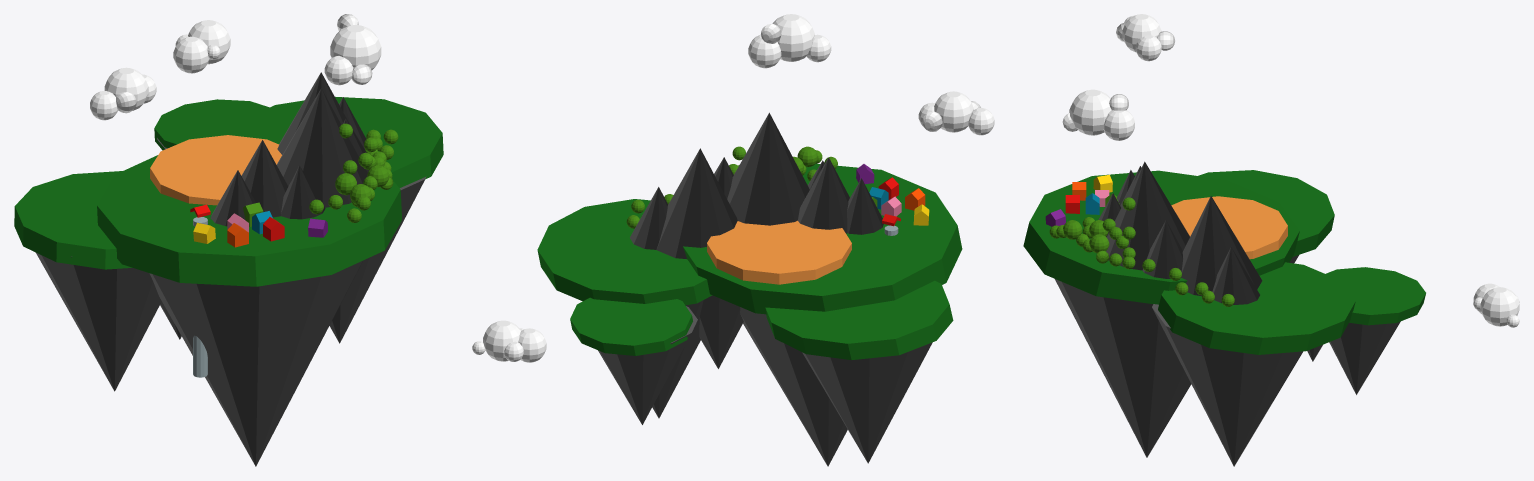
The model's file is Floaty_Island.3f99fd87.glb.
The picture shows the model from 3 angles, left to right: view 1: azimuth 30°, elevation 25°; view 2: azimuth 150°, elevation 25°; view 3: azimuth 270°, elevation 25°; orthographic projection. The views are drawn at different scales.
Parts seen in each view (by area): view 1: Node-Mesh, Node-Mesh_1, Node-Mesh_4, Node-Mesh_3, Node-Mesh_2, Node-Mesh_11, Node-Mesh_7; view 2: Node-Mesh_1, Node-Mesh, Node-Mesh_4, Node-Mesh_3, Node-Mesh_2; view 3: Node-Mesh, Node-Mesh_1, Node-Mesh_4, Node-Mesh_3, Node-Mesh_2.
Boxes of the visible parts, x1=… form: Node-Mesh: x1=35, y1=72, x2=426, y2=466; Node-Mesh_1: x1=14, y1=96, x2=443, y2=286; Node-Mesh_4: x1=90, y1=14, x2=381, y2=120; Node-Mesh_3: x1=150, y1=135, x2=281, y2=205; Node-Mesh_2: x1=243, y1=123, x2=398, y2=226; Node-Mesh_11: x1=193, y1=217, x2=207, y2=377; Node-Mesh_7: x1=190, y1=204, x2=284, y2=241; Node-Mesh_1: x1=537, y1=163, x2=962, y2=360; Node-Mesh: x1=598, y1=112, x2=932, y2=466; Node-Mesh_4: x1=472, y1=14, x2=994, y2=362; Node-Mesh_3: x1=707, y1=220, x2=851, y2=284; Node-Mesh_2: x1=626, y1=146, x2=877, y2=228; Node-Mesh: x1=1055, y1=161, x2=1400, y2=466; Node-Mesh_1: x1=1023, y1=170, x2=1425, y2=354; Node-Mesh_4: x1=1062, y1=14, x2=1519, y2=327; Node-Mesh_3: x1=1171, y1=196, x2=1287, y2=259; Node-Mesh_2: x1=1049, y1=193, x2=1234, y2=306.
Bounding box in the file's own units: 0.6373 × 0.6617 × 0.7496.
